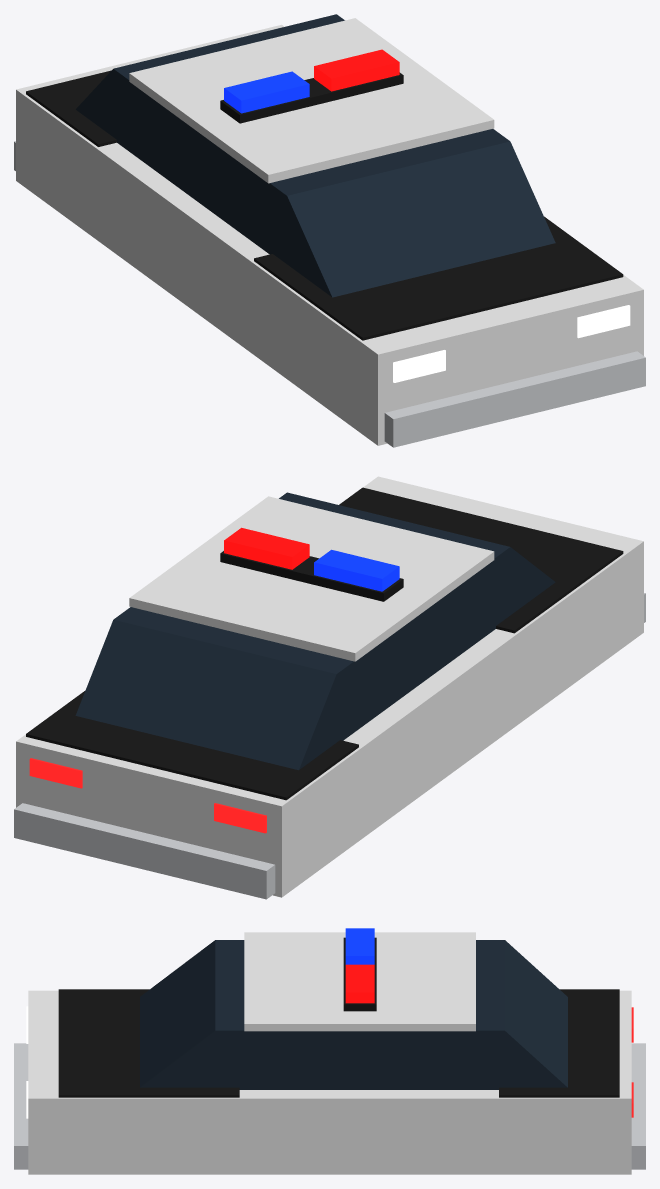
File: police.glb
3 renders of one model, top to bottom at view 1: azimuth 30°, elevation 25°; view 2: azimuth 150°, elevation 25°; view 3: azimuth 270°, elevation 25°, orthographic. The views are drawn at different scales.
Visible parts, largest first — view 1: body, siren_red, siren_blue, lightbar; view 2: body, siren_red, siren_blue, lightbar; view 3: body, siren_red, siren_blue, lightbar.
Part boxes in pixels (bbox=[...]): body: bbox=[14, 14, 645, 447]; siren_red: bbox=[314, 49, 399, 91]; siren_blue: bbox=[224, 71, 309, 113]; lightbar: bbox=[220, 72, 403, 123]; body: bbox=[14, 476, 645, 899]; siren_red: bbox=[224, 527, 309, 569]; siren_blue: bbox=[314, 549, 399, 591]; lightbar: bbox=[220, 551, 403, 601]; body: bbox=[14, 932, 645, 1174]; siren_red: bbox=[345, 964, 374, 1003]; siren_blue: bbox=[345, 928, 374, 964]; lightbar: bbox=[343, 937, 376, 1011].
Bounding box in the file's own units: 1.95 × 1.35 × 4.82.
